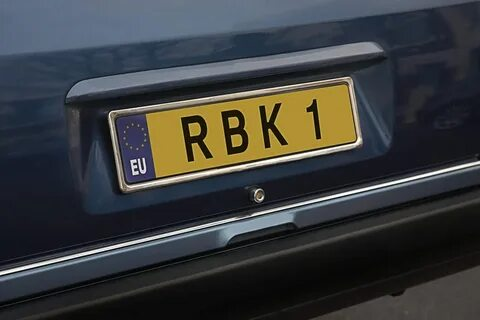number_plate: (115, 79, 362, 167)
